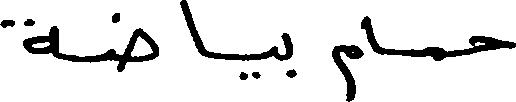X: (0, 14, 57, 62), (123, 23, 157, 74), (332, 40, 360, 101), (180, 0, 204, 60), (470, 31, 515, 58), (366, 11, 379, 58), (285, 28, 292, 82), (430, 42, 445, 65), (271, 41, 277, 63)
